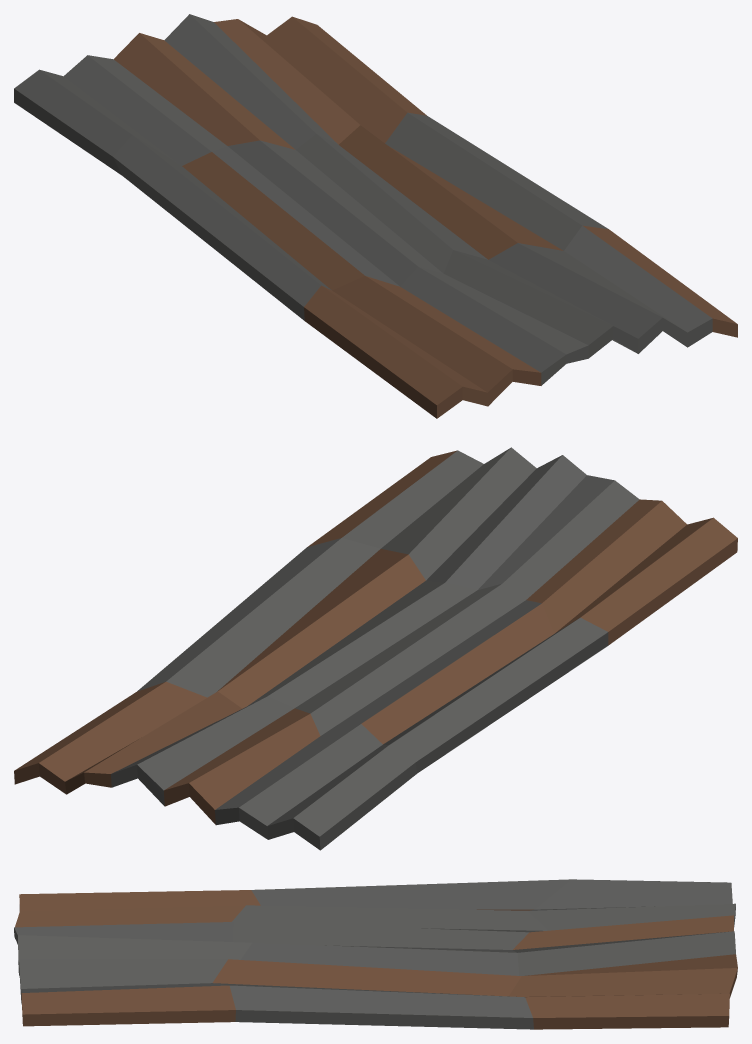
File: SM_Prop_Iron_Sheet_01.glb
The picture shows the model from 3 angles, top to bottom: view 1: azimuth 30°, elevation 25°; view 2: azimuth 150°, elevation 25°; view 3: azimuth 270°, elevation 25°; orthographic projection. The views are drawn at different scales.
Visible parts, largest first — view 1: SM_Prop_Iron_Sheet_01; view 2: SM_Prop_Iron_Sheet_01; view 3: SM_Prop_Iron_Sheet_01.
Boxes of the visible parts, x1=… form: SM_Prop_Iron_Sheet_01: x1=14, y1=14, x2=737, y2=418; SM_Prop_Iron_Sheet_01: x1=14, y1=447, x2=737, y2=850; SM_Prop_Iron_Sheet_01: x1=14, y1=879, x2=737, y2=1029.
Bounding box in the file's own units: 1.1 × 0.205 × 2.63.
1 material, 1 textured.
